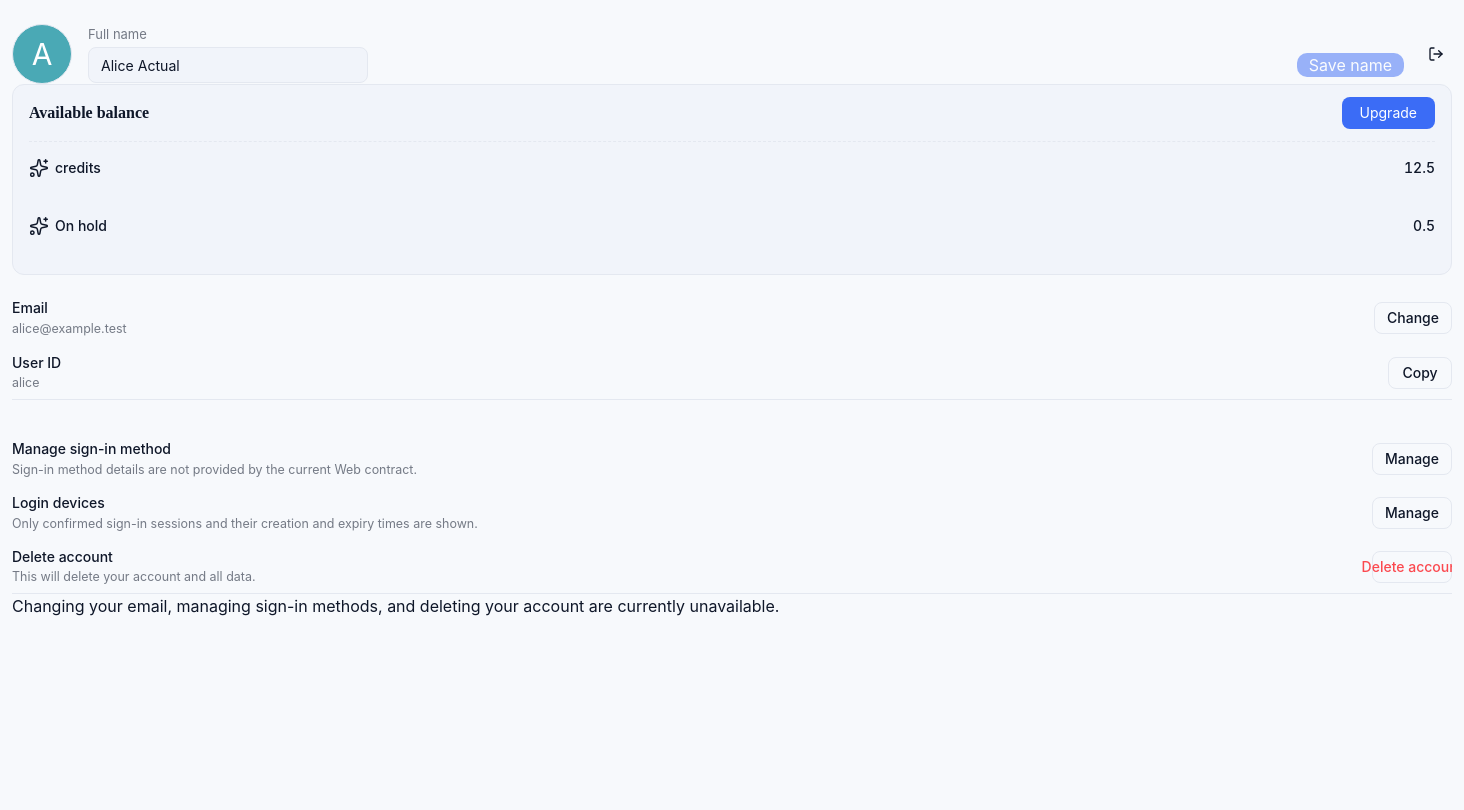
Test case: uses real ID for copy and shows a safe error when clipboard rejects
Expected: the text "alice@example.test" is shown, [12, 321, 127, 336]
Step 1. Click the button "Copy" → (1420, 372), box [1388, 356, 1452, 388]
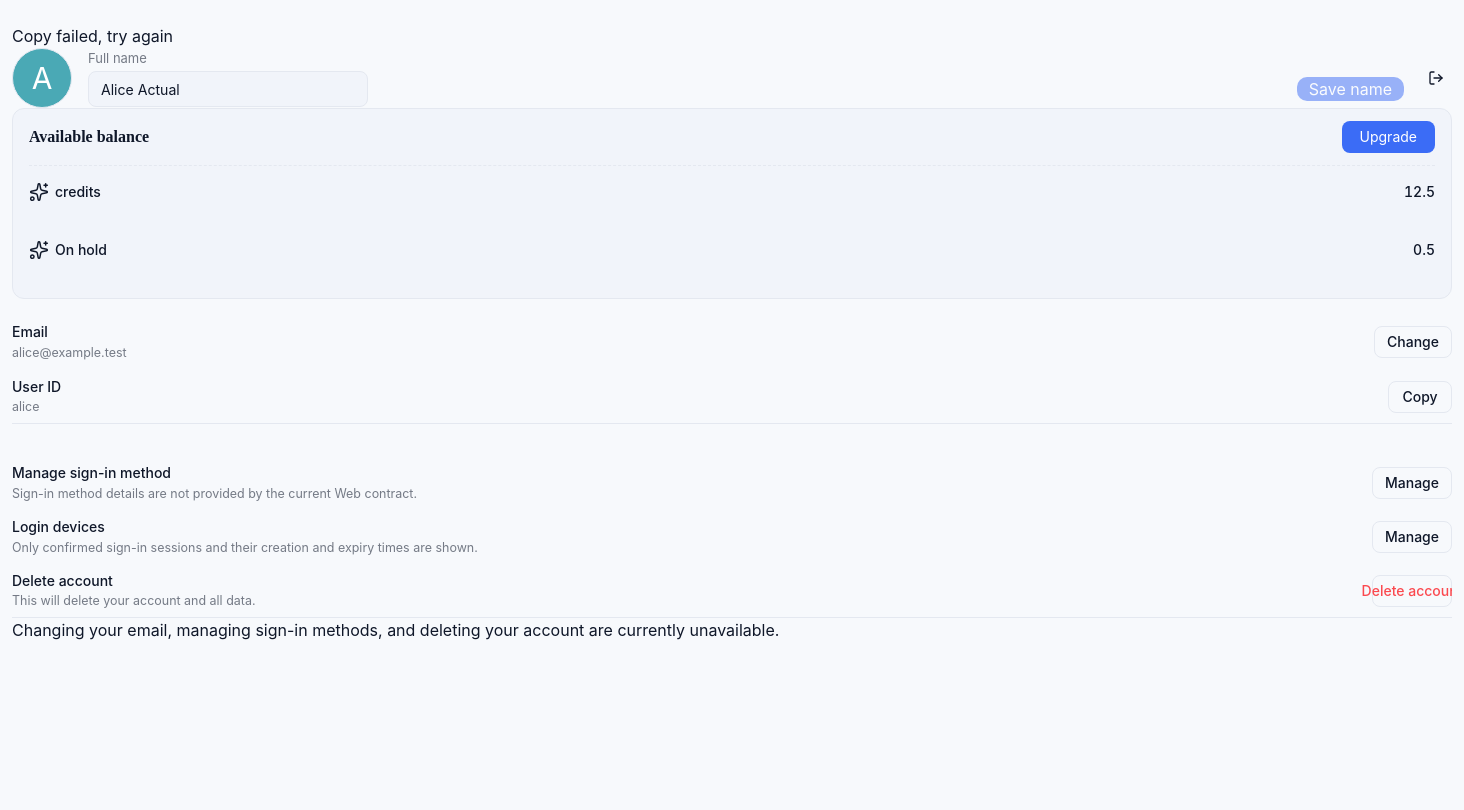
Now the message "Copy failed, try again" is shown, box [12, 26, 173, 46]
